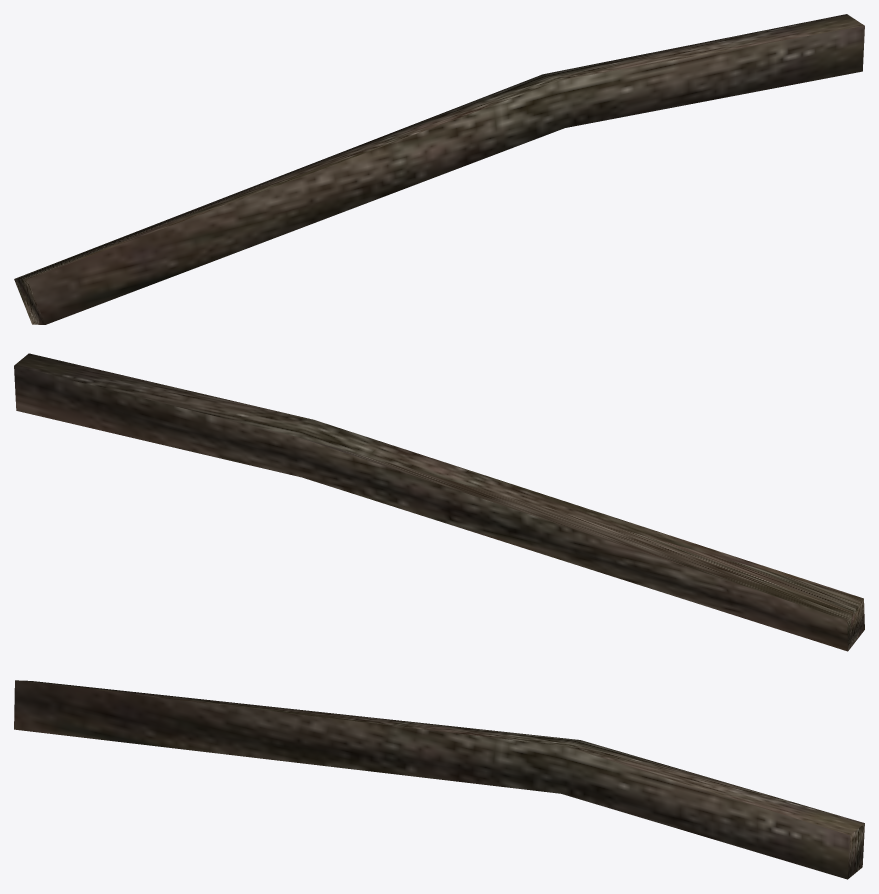
File: OW_LOB_FENCE_V3.glb
The picture shows the model from 3 angles, top to bottom: view 1: azimuth 30°, elevation 25°; view 2: azimuth 150°, elevation 25°; view 3: azimuth 330°, elevation 25°; orthographic projection.
Parts seen in each view (by area): view 1: Mesh; view 2: Mesh; view 3: Mesh.
Boxes of the visible parts, x1,y1,x2,y2 form: Mesh: [14, 14, 864, 324]; Mesh: [14, 353, 864, 651]; Mesh: [14, 680, 864, 879].
Bounding box in the file's own units: 2.82 × 0.3491 × 0.2212.
Materials: 1 (1 with a texture image).
